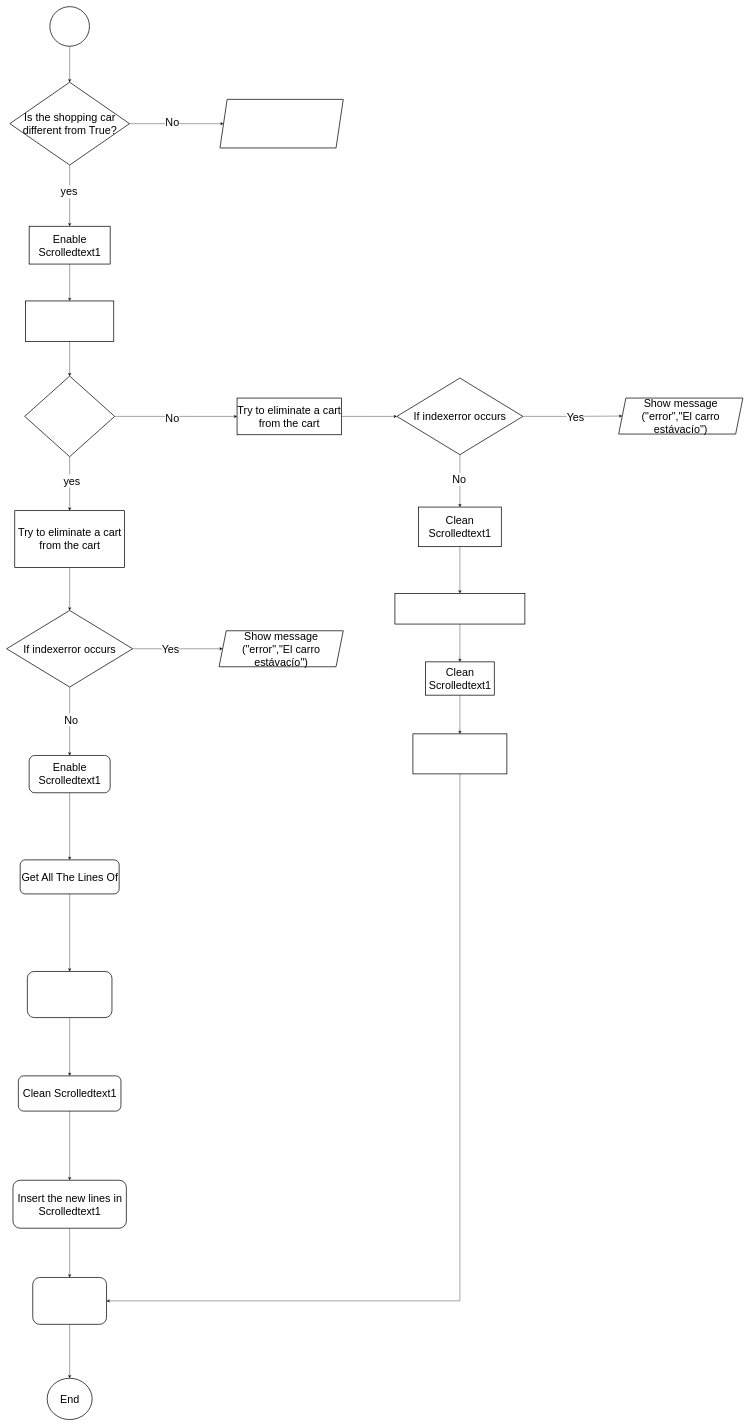
The diagram is 749 pixels wide and 1426 high, and some of its shapes have lost their labels. The centre of each missing label's shape, as x and y in pixels:
Create a new chain without the last 3 lines: point (69, 994)
Create new list without 'total': point (459, 608)
Disable scrolledtext1: point (69, 1301)
Get the scrolledtext1 text: point (69, 321)
Insert new lines in Scrolledtext1: point (459, 753)
Show message ("Error", "Agregar producto al carro"): point (281, 123)
Start: point (69, 26)
Verify if the text contains 'total': point (69, 416)
